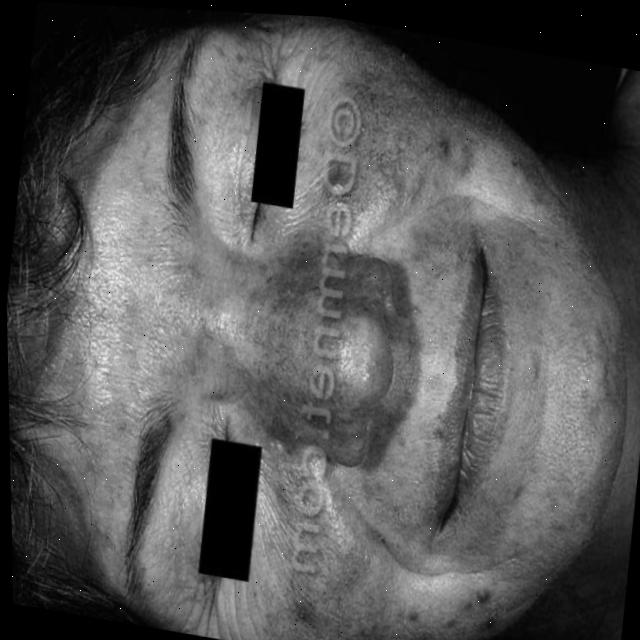Rosacea: (13, 47, 188, 565), (158, 223, 399, 443), (280, 33, 474, 284), (242, 433, 418, 640), (536, 282, 640, 539)
